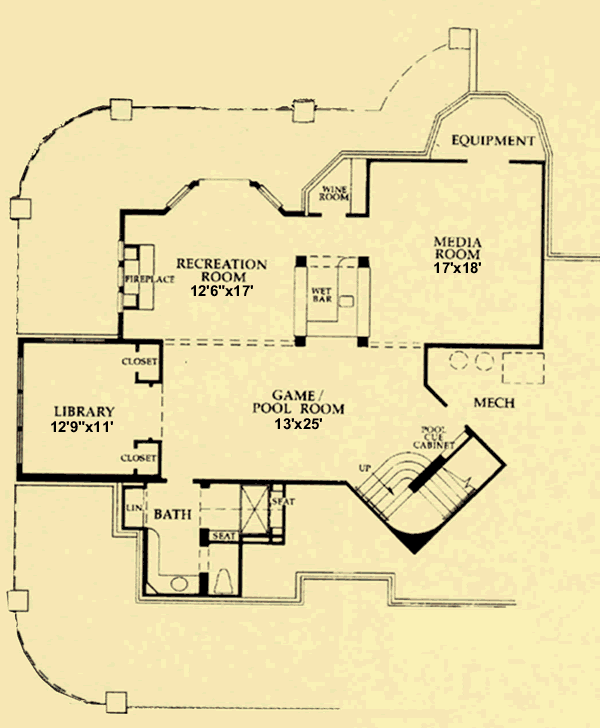large_sink: (210, 565, 237, 595)
small_sink: (146, 573, 200, 596)
stairs: (354, 450, 482, 536)
window: (163, 183, 199, 212), (250, 184, 283, 213)
